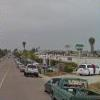Car: (16, 58, 40, 81)
